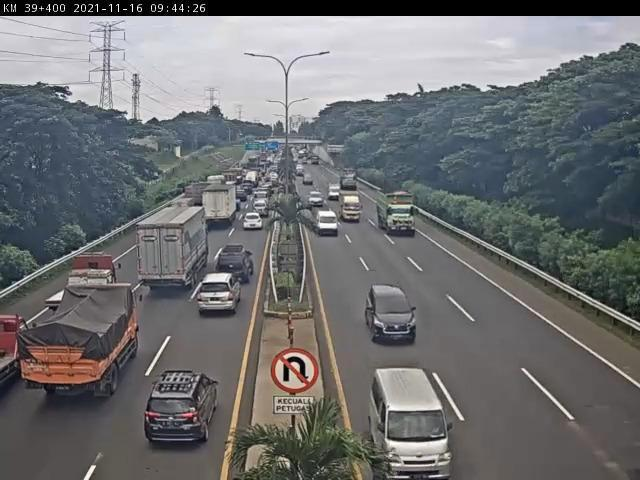car: (369, 368, 463, 480), (146, 368, 222, 451), (363, 286, 423, 344), (195, 273, 244, 315), (219, 243, 256, 280), (314, 210, 341, 241)
truck: (18, 279, 141, 408), (136, 203, 210, 296), (47, 253, 115, 313), (376, 190, 420, 236), (3, 311, 28, 384), (200, 182, 238, 226), (339, 188, 363, 224)
